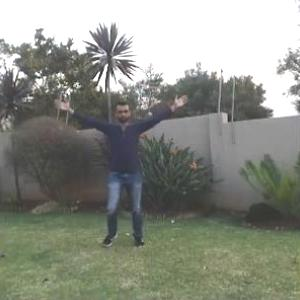takeoff: (40, 94, 192, 250)
